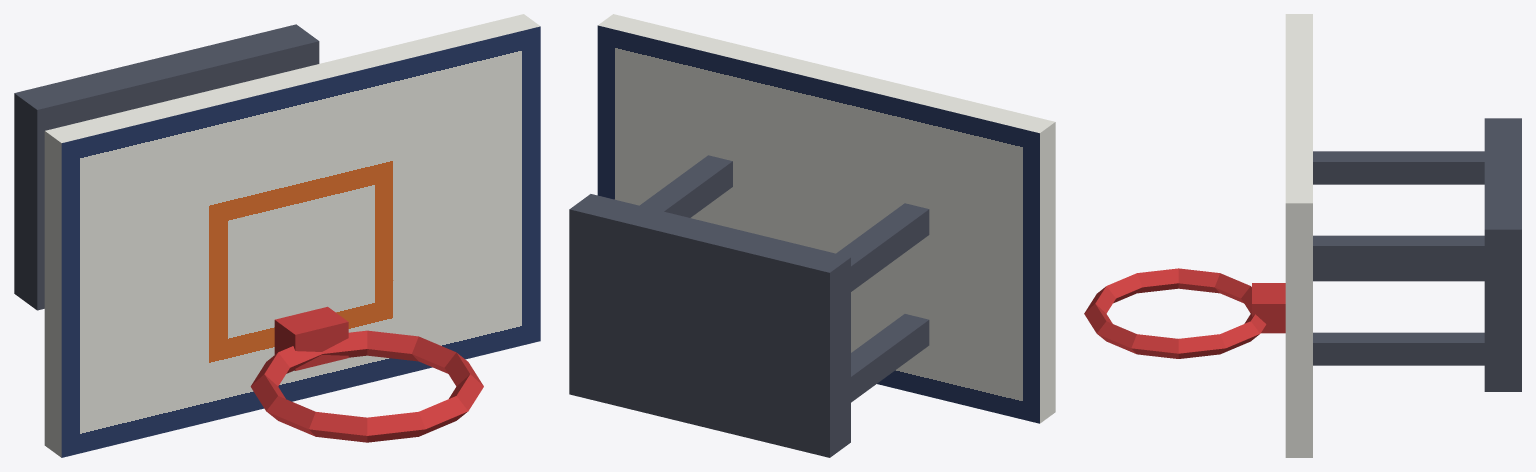
File: hoop_body.glb
The picture shows the model from 3 angles, left to right: view 1: azimuth 30°, elevation 25°; view 2: azimuth 150°, elevation 25°; view 3: azimuth 270°, elevation 25°; orthographic projection. The views are drawn at different scales.
Visible parts, largest first — view 1: Board, Plate, Rim, Clip; view 2: Board, Plate, Arm01, Arm00, Arm11; view 3: Board, Plate, Rim, Arm01, Arm10, Arm11, Arm00, Clip.
Part boxes in pixels (x1=…): Board: x1=44, y1=14, x2=540, y2=457; Plate: x1=14, y1=24, x2=319, y2=310; Rim: x1=250, y1=330, x2=483, y2=442; Clip: x1=274, y1=306, x2=348, y2=370; Board: x1=597, y1=14, x2=1055, y2=423; Plate: x1=569, y1=194, x2=850, y2=457; Arm01: x1=836, y1=203, x2=929, y2=291; Arm00: x1=851, y1=314, x2=929, y2=402; Arm11: x1=640, y1=155, x2=732, y2=217; Board: x1=1285, y1=14, x2=1312, y2=457; Plate: x1=1484, y1=118, x2=1521, y2=391; Rim: x1=1084, y1=268, x2=1266, y2=358; Arm01: x1=1313, y1=151, x2=1484, y2=184; Arm10: x1=1313, y1=332, x2=1484, y2=365; Arm11: x1=1313, y1=235, x2=1484, y2=268; Arm00: x1=1313, y1=268, x2=1484, y2=281; Clip: x1=1252, y1=283, x2=1285, y2=333.
Size of the model in its own units: 1.8 by 1.13 by 1.76.
Materials: 5 (2 with a texture image).
